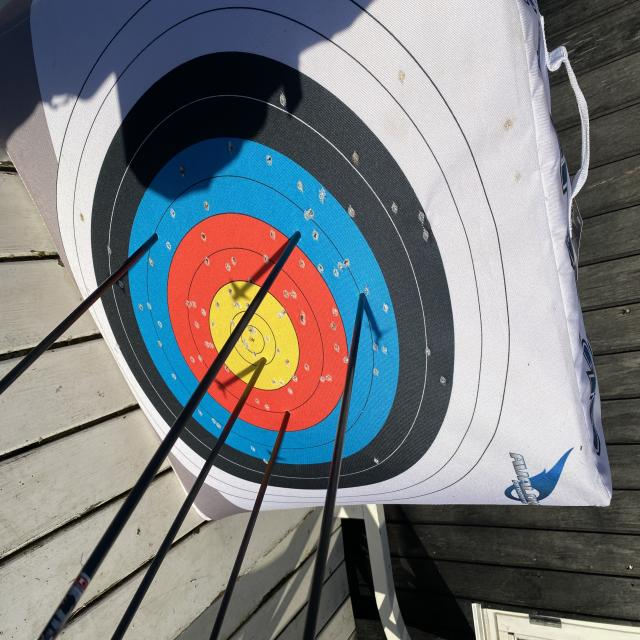Arrow_Blue: (276, 212, 313, 266), (135, 222, 181, 254), (346, 279, 377, 323)
Arrow_Red: (276, 400, 302, 433)
Arrow_Yellow: (248, 344, 270, 380)
